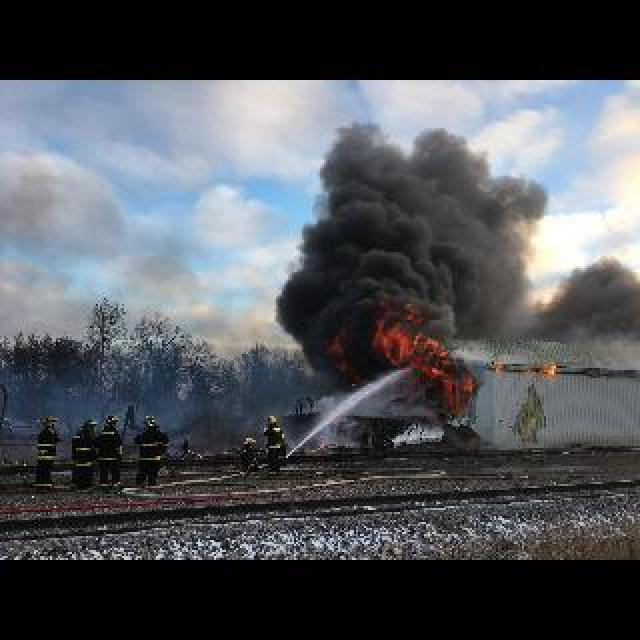Fire: (328, 276, 500, 424)
Smoke: (270, 150, 544, 358)
